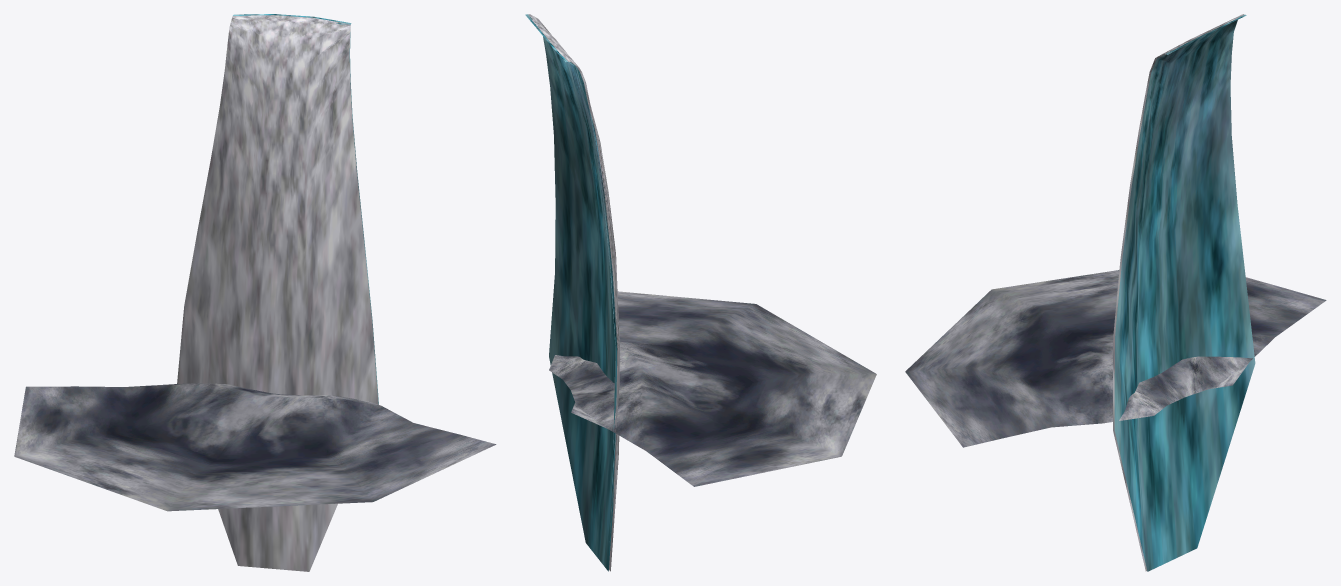
The model's file is EKH_GROTTO_PS_GR_WATERFALLS01948.fbx.
3 views of the same model, side by side, from view 1: azimuth 30°, elevation 25°; view 2: azimuth 150°, elevation 25°; view 3: azimuth 270°, elevation 25° (orthographic). The views are drawn at different scales.
Visible parts, largest first — view 1: EKH_GROTTO_PS_GR_WATERFALLS01948; view 2: EKH_GROTTO_PS_GR_WATERFALLS01948; view 3: EKH_GROTTO_PS_GR_WATERFALLS01948.
Part boxes in pixels (x1,y1,x2,y2): EKH_GROTTO_PS_GR_WATERFALLS01948: (14,14,496,571); EKH_GROTTO_PS_GR_WATERFALLS01948: (525,14,876,571); EKH_GROTTO_PS_GR_WATERFALLS01948: (905,14,1326,571).
Bounding box in the file's own units: 121129 × 164097 × 114913.
Materials: 3 (3 with a texture image).
